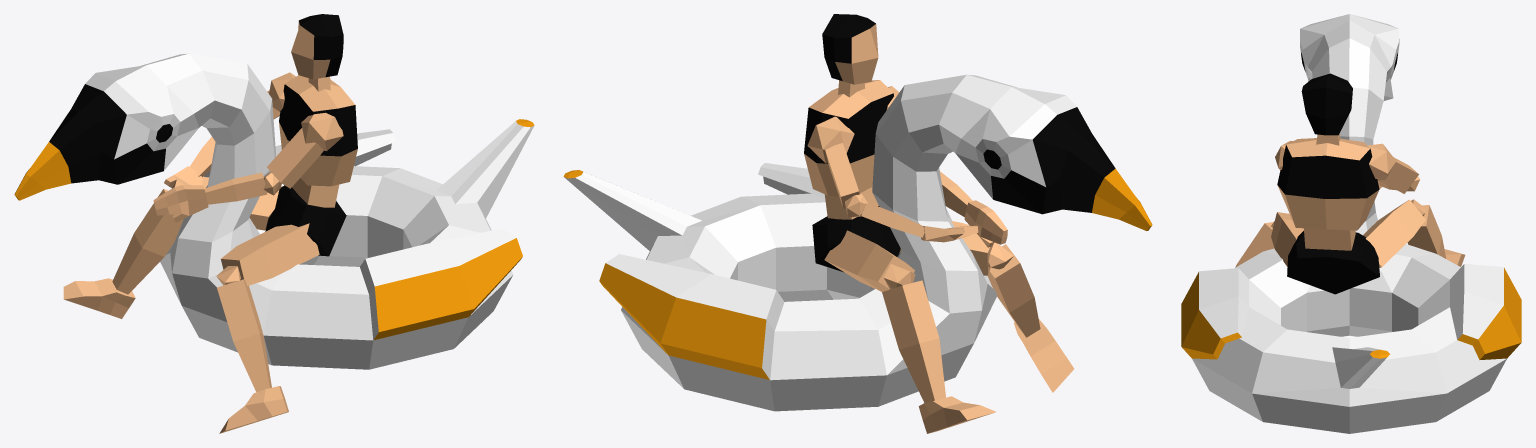
File: cisne.fbx
The picture shows the model from 3 angles, left to right: view 1: azimuth 30°, elevation 25°; view 2: azimuth 150°, elevation 25°; view 3: azimuth 270°, elevation 25°; orthographic projection. The views are drawn at different scales.
Visible parts, largest first — view 1: Vehiculo4, cisne; view 2: Vehiculo4, cisne; view 3: Vehiculo4, cisne.
Boxes of the visible parts, x1,y1,x2,y2 form: Vehiculo4: [14, 53, 534, 369]; cisne: [63, 14, 357, 433]; Vehiculo4: [563, 74, 1152, 411]; cisne: [804, 14, 1074, 433]; Vehiculo4: [1181, 14, 1521, 433]; cisne: [1235, 73, 1465, 294].
Size of the model in its own units: 5.72 by 3.59 by 3.38.
